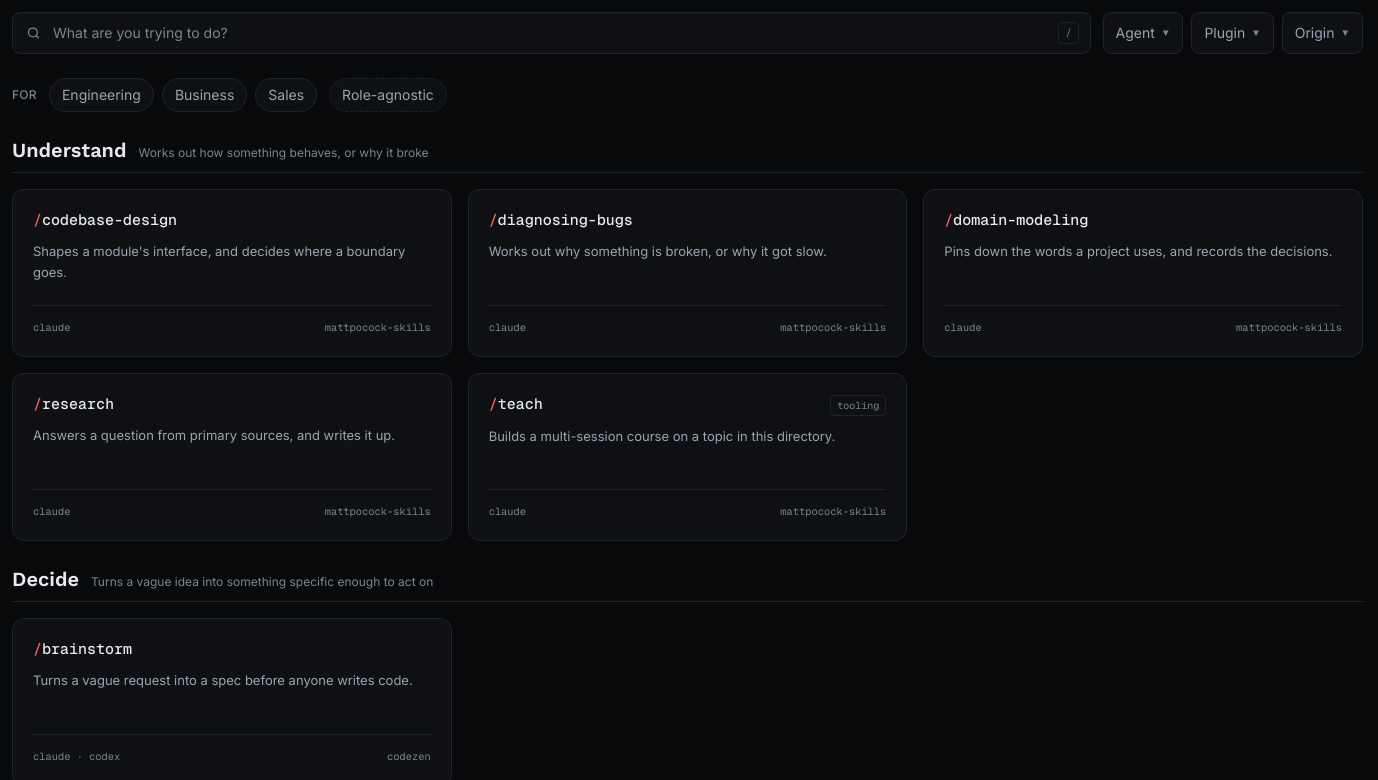
Test: the page around the grid › names the rows in the empty state
The image size is (1378, 780).
In the search field labelled "What are you trying to do?": (551, 33) x1=12 y1=12 x2=1091 y2=54, type "zzzznotathing"
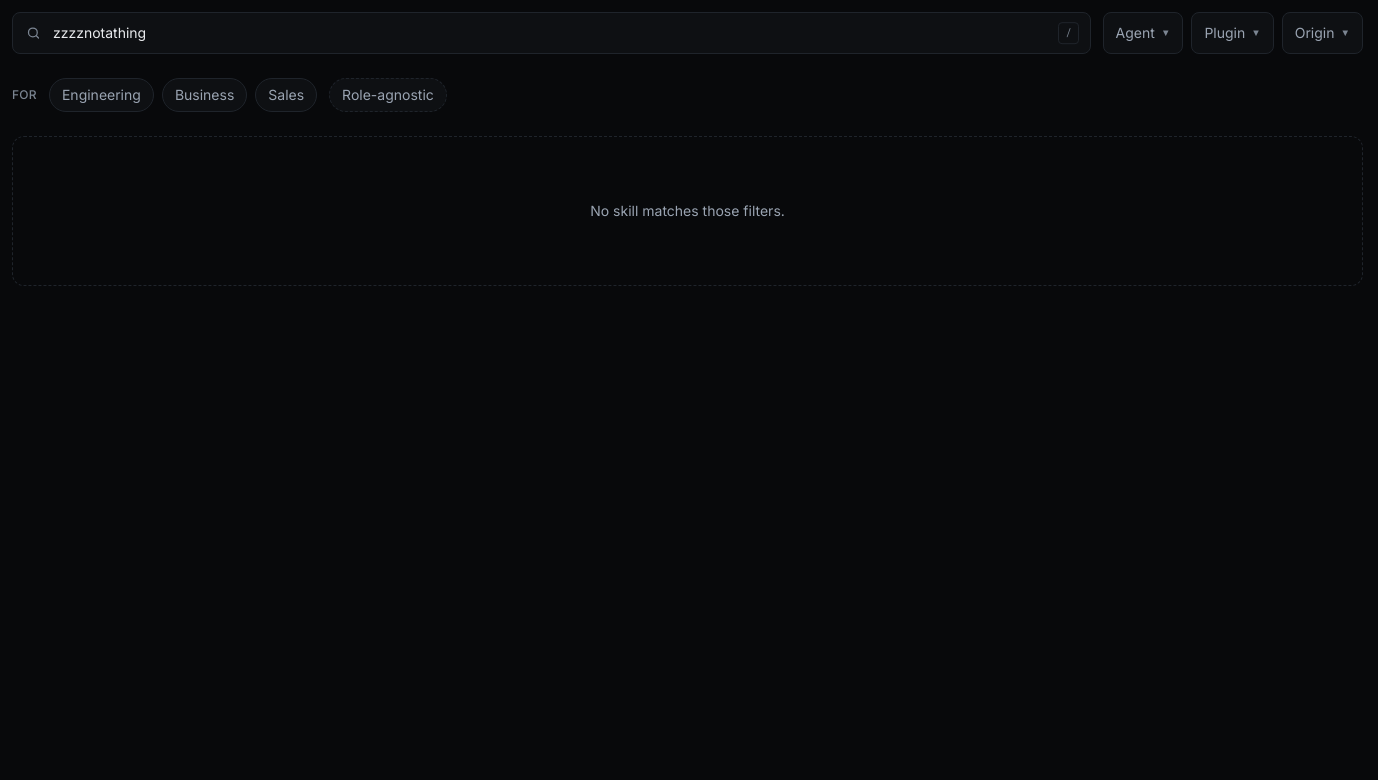
Result: the text "No skill matches those filters." is shown at x1=12 y1=136 x2=1363 y2=286
